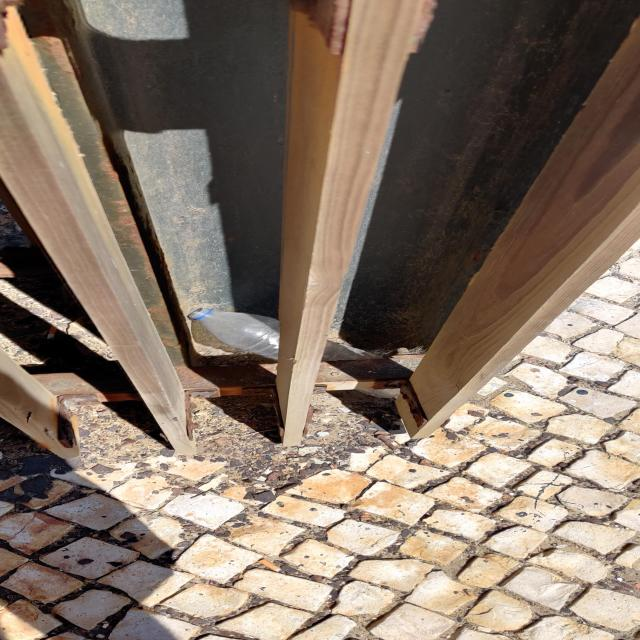Clear plastic bottle: (189, 308, 401, 398)
Scrap metal: (375, 434, 395, 451), (276, 483, 298, 494), (321, 503, 351, 510)
